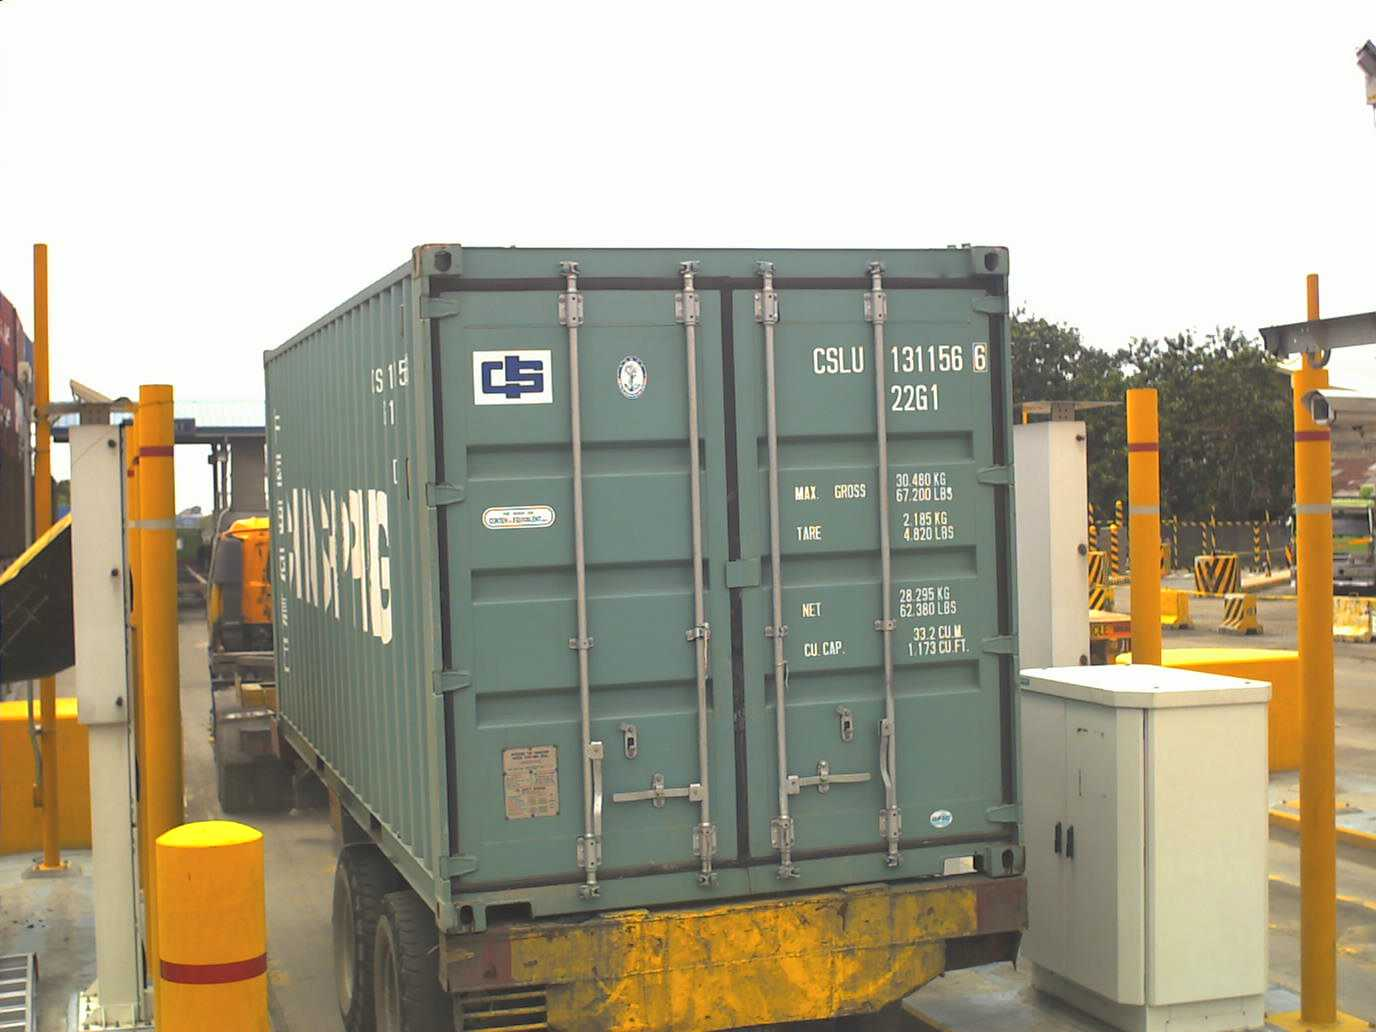container_door: (411, 236, 1024, 891)
